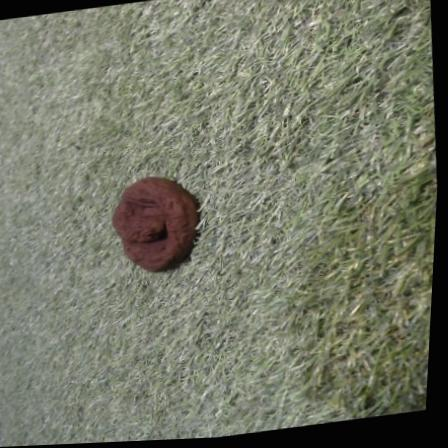dog-poop: (109, 172, 207, 280)
